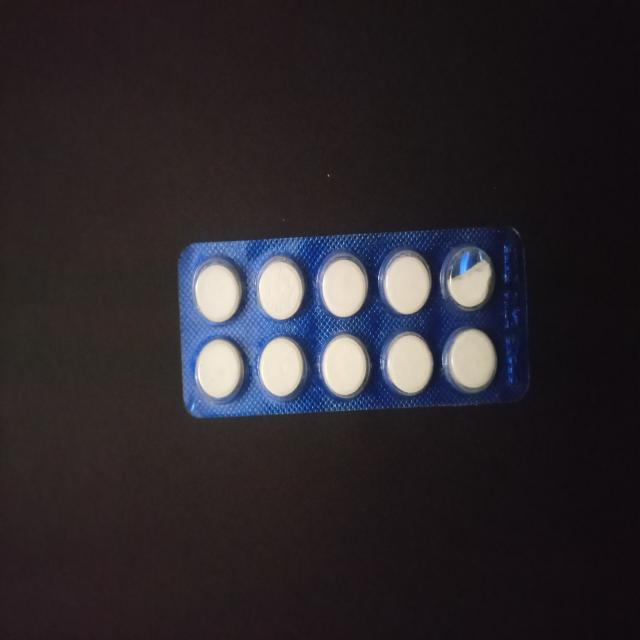defect: (438, 241, 498, 316)
